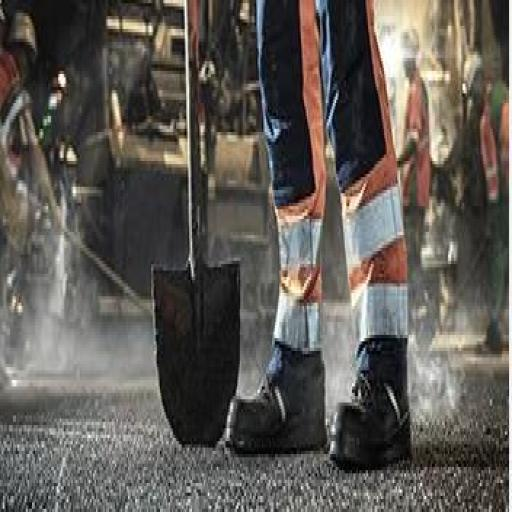safety_boots: (316, 337, 414, 471), (231, 344, 315, 463)
